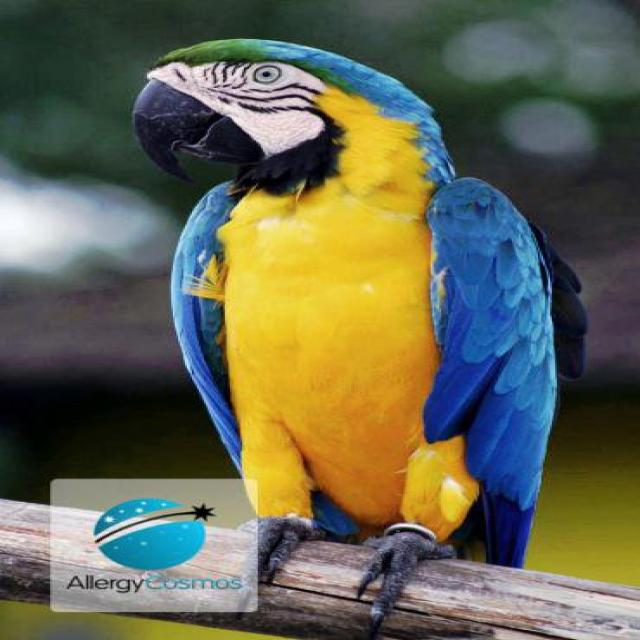parrot: (133, 39, 583, 634)
